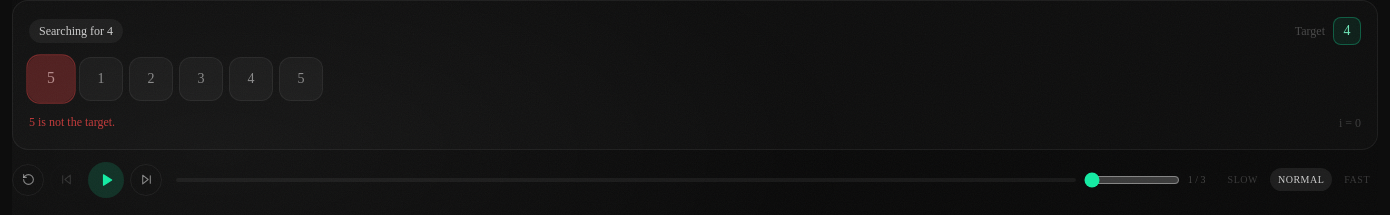
Scenario: AnimationScriptRenderer › advances the narration when clicking next
Step 1. Click the button named "Next step" → [146, 180], box x1=130 y1=164 x2=162 y2=196
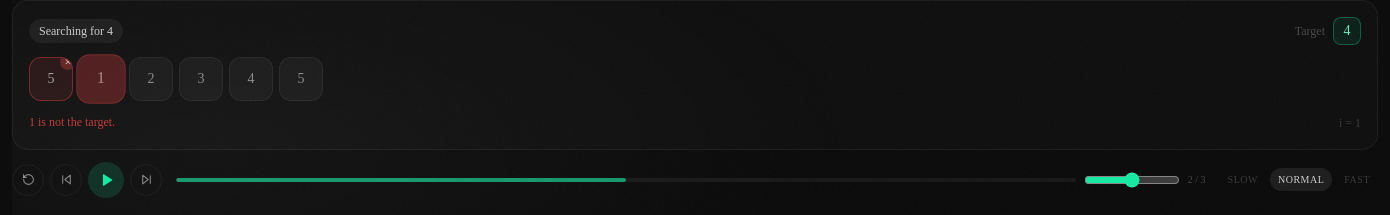
expect the text "1 is not the target." is shown: met, box x1=29 y1=115 x2=115 y2=129
expect the text "2 / 3" is shown: met, box x1=1188 y1=172 x2=1206 y2=187
